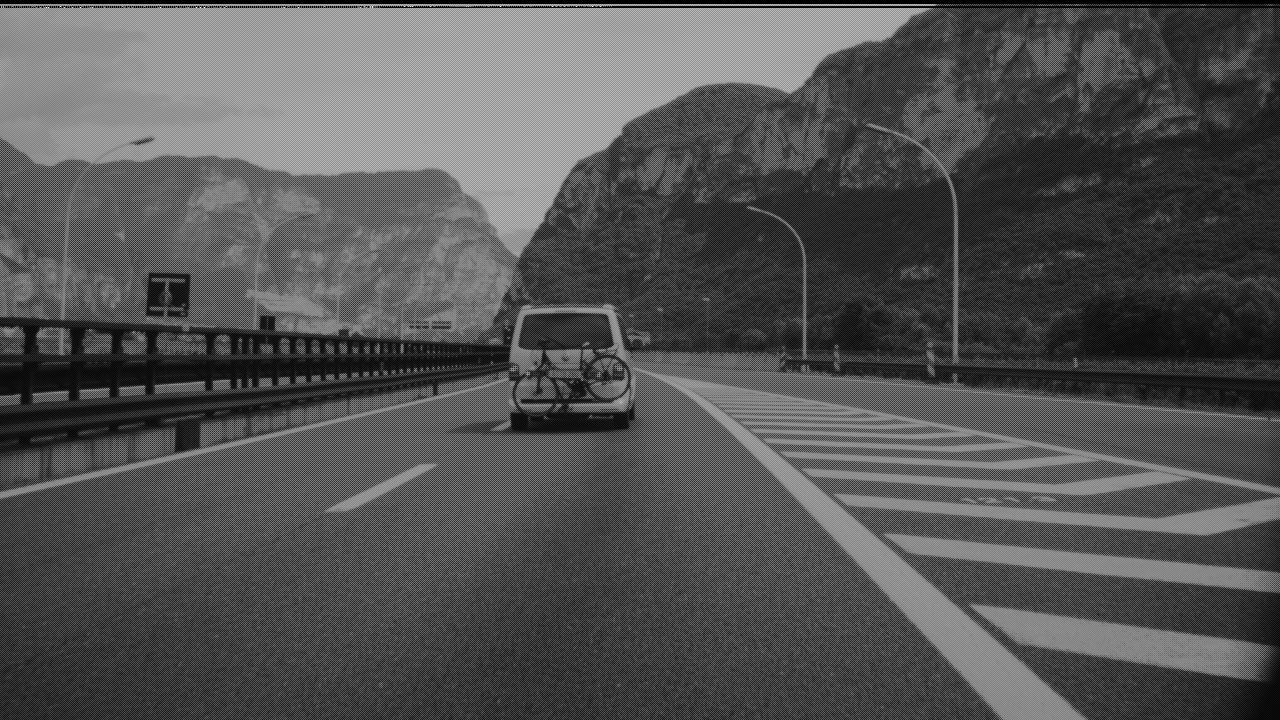pole: (58, 180, 76, 348), (949, 179, 958, 370), (799, 238, 806, 365), (252, 236, 262, 321)
